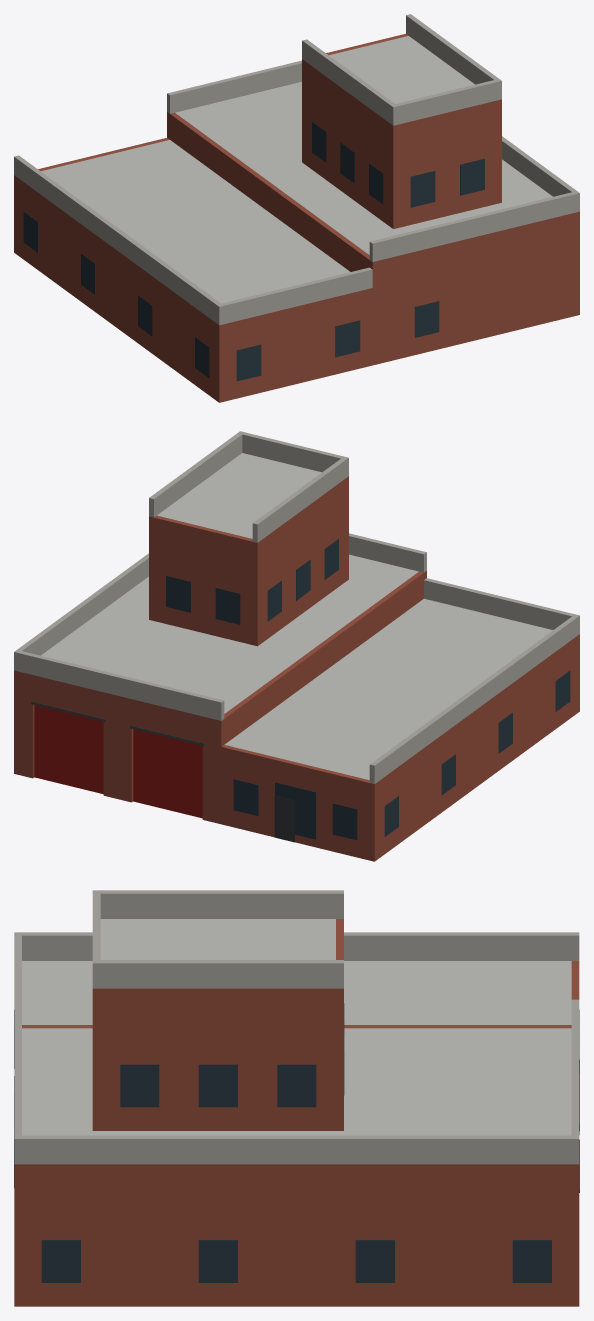
Rendered from bld_fire_station_quest.glb.
The picture shows the model from 3 angles, top to bottom: view 1: azimuth 30°, elevation 25°; view 2: azimuth 150°, elevation 25°; view 3: azimuth 270°, elevation 25°; orthographic projection. The views are drawn at different scales.
Visible parts, largest first — view 1: bld_fire_station_quest-col; view 2: bld_fire_station_quest-col; view 3: bld_fire_station_quest-col.
Boxes of the visible parts, x1,y1,x2,y2 form: bld_fire_station_quest-col: [14, 14, 579, 402]; bld_fire_station_quest-col: [14, 431, 579, 861]; bld_fire_station_quest-col: [14, 890, 579, 1306].
Bounding box in the file's own units: 21.92 × 13.07 × 21.63.
